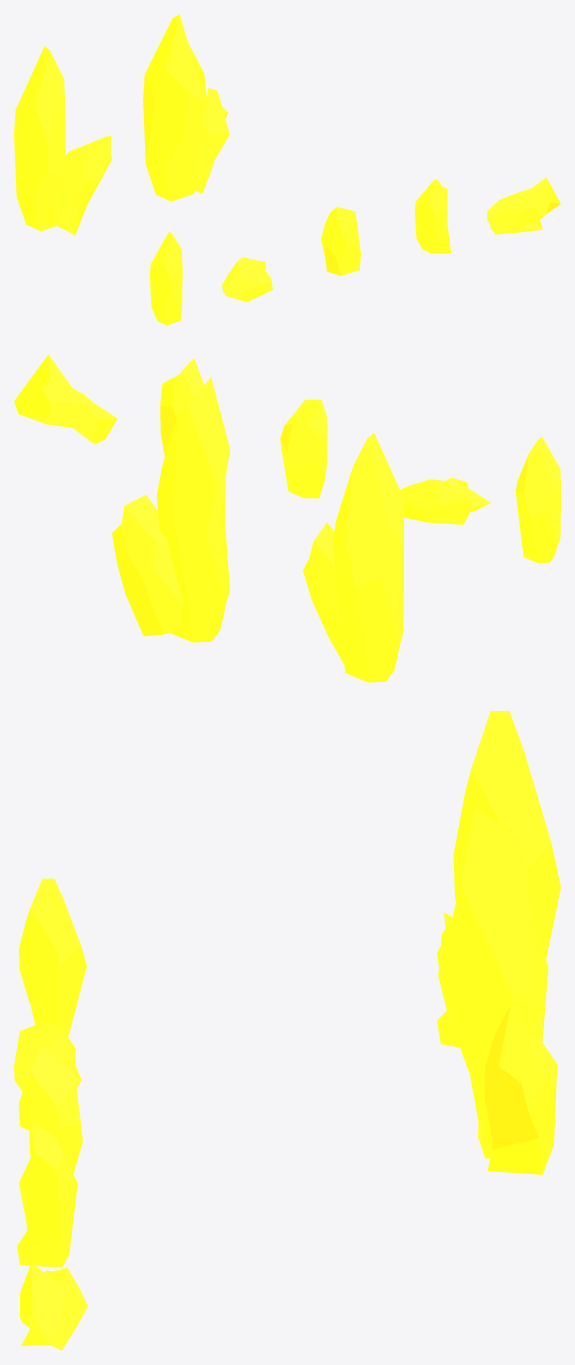
The model's file is LuminousStone.fbx.
3 views of the same model, one above another, from view 1: azimuth 30°, elevation 25°; view 2: azimuth 150°, elevation 25°; view 3: azimuth 270°, elevation 25° (orthographic). The views are drawn at different scales.
Parts seen in each view (by area): view 1: GlowStone.009, GlowStone.007, GlowStone.005, GlowStone.001, GlowStone.003, GlowStone.004, GlowStone.002; view 2: GlowStone.009, GlowStone.007, GlowStone.001, GlowStone.005, GlowStone.003, GlowStone.002, GlowStone.004; view 3: GlowStone.009, GlowStone.007, GlowStone.001, GlowStone.004, GlowStone.003, GlowStone.005, GlowStone.002.
Boxes of the visible parts, left/top/right/bottom form: GlowStone.009: left=143, top=14, right=229, bottom=201; GlowStone.007: left=14, top=46, right=111, bottom=235; GlowStone.005: left=487, top=177, right=560, bottom=234; GlowStone.001: left=149, top=232, right=182, bottom=325; GlowStone.003: left=321, top=206, right=360, bottom=275; GlowStone.004: left=414, top=179, right=450, bottom=253; GlowStone.002: left=222, top=257, right=273, bottom=302; GlowStone.009: left=112, top=377, right=229, bottom=642; GlowStone.007: left=303, top=433, right=403, bottom=682; GlowStone.001: left=515, top=437, right=560, bottom=563; GlowStone.005: left=14, top=354, right=117, bottom=444; GlowStone.003: left=280, top=399, right=327, bottom=498; GlowStone.002: left=400, top=477, right=490, bottom=524; GlowStone.004: left=160, top=358, right=203, bottom=455; GlowStone.009: left=438, top=808, right=557, bottom=1174; GlowStone.007: left=437, top=711, right=560, bottom=1047; GlowStone.001: left=19, top=878, right=86, bottom=1035; GlowStone.004: left=17, top=1123, right=77, bottom=1267; GlowStone.003: left=19, top=1047, right=82, bottom=1173; GlowStone.005: left=20, top=1263, right=87, bottom=1350; GlowStone.002: left=14, top=1022, right=81, bottom=1091.
Bounding box in the file's own units: 959 × 416 × 602.
